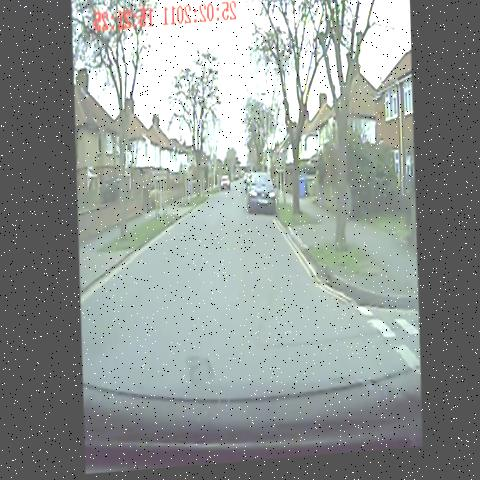pothole: (176, 347, 222, 404)
